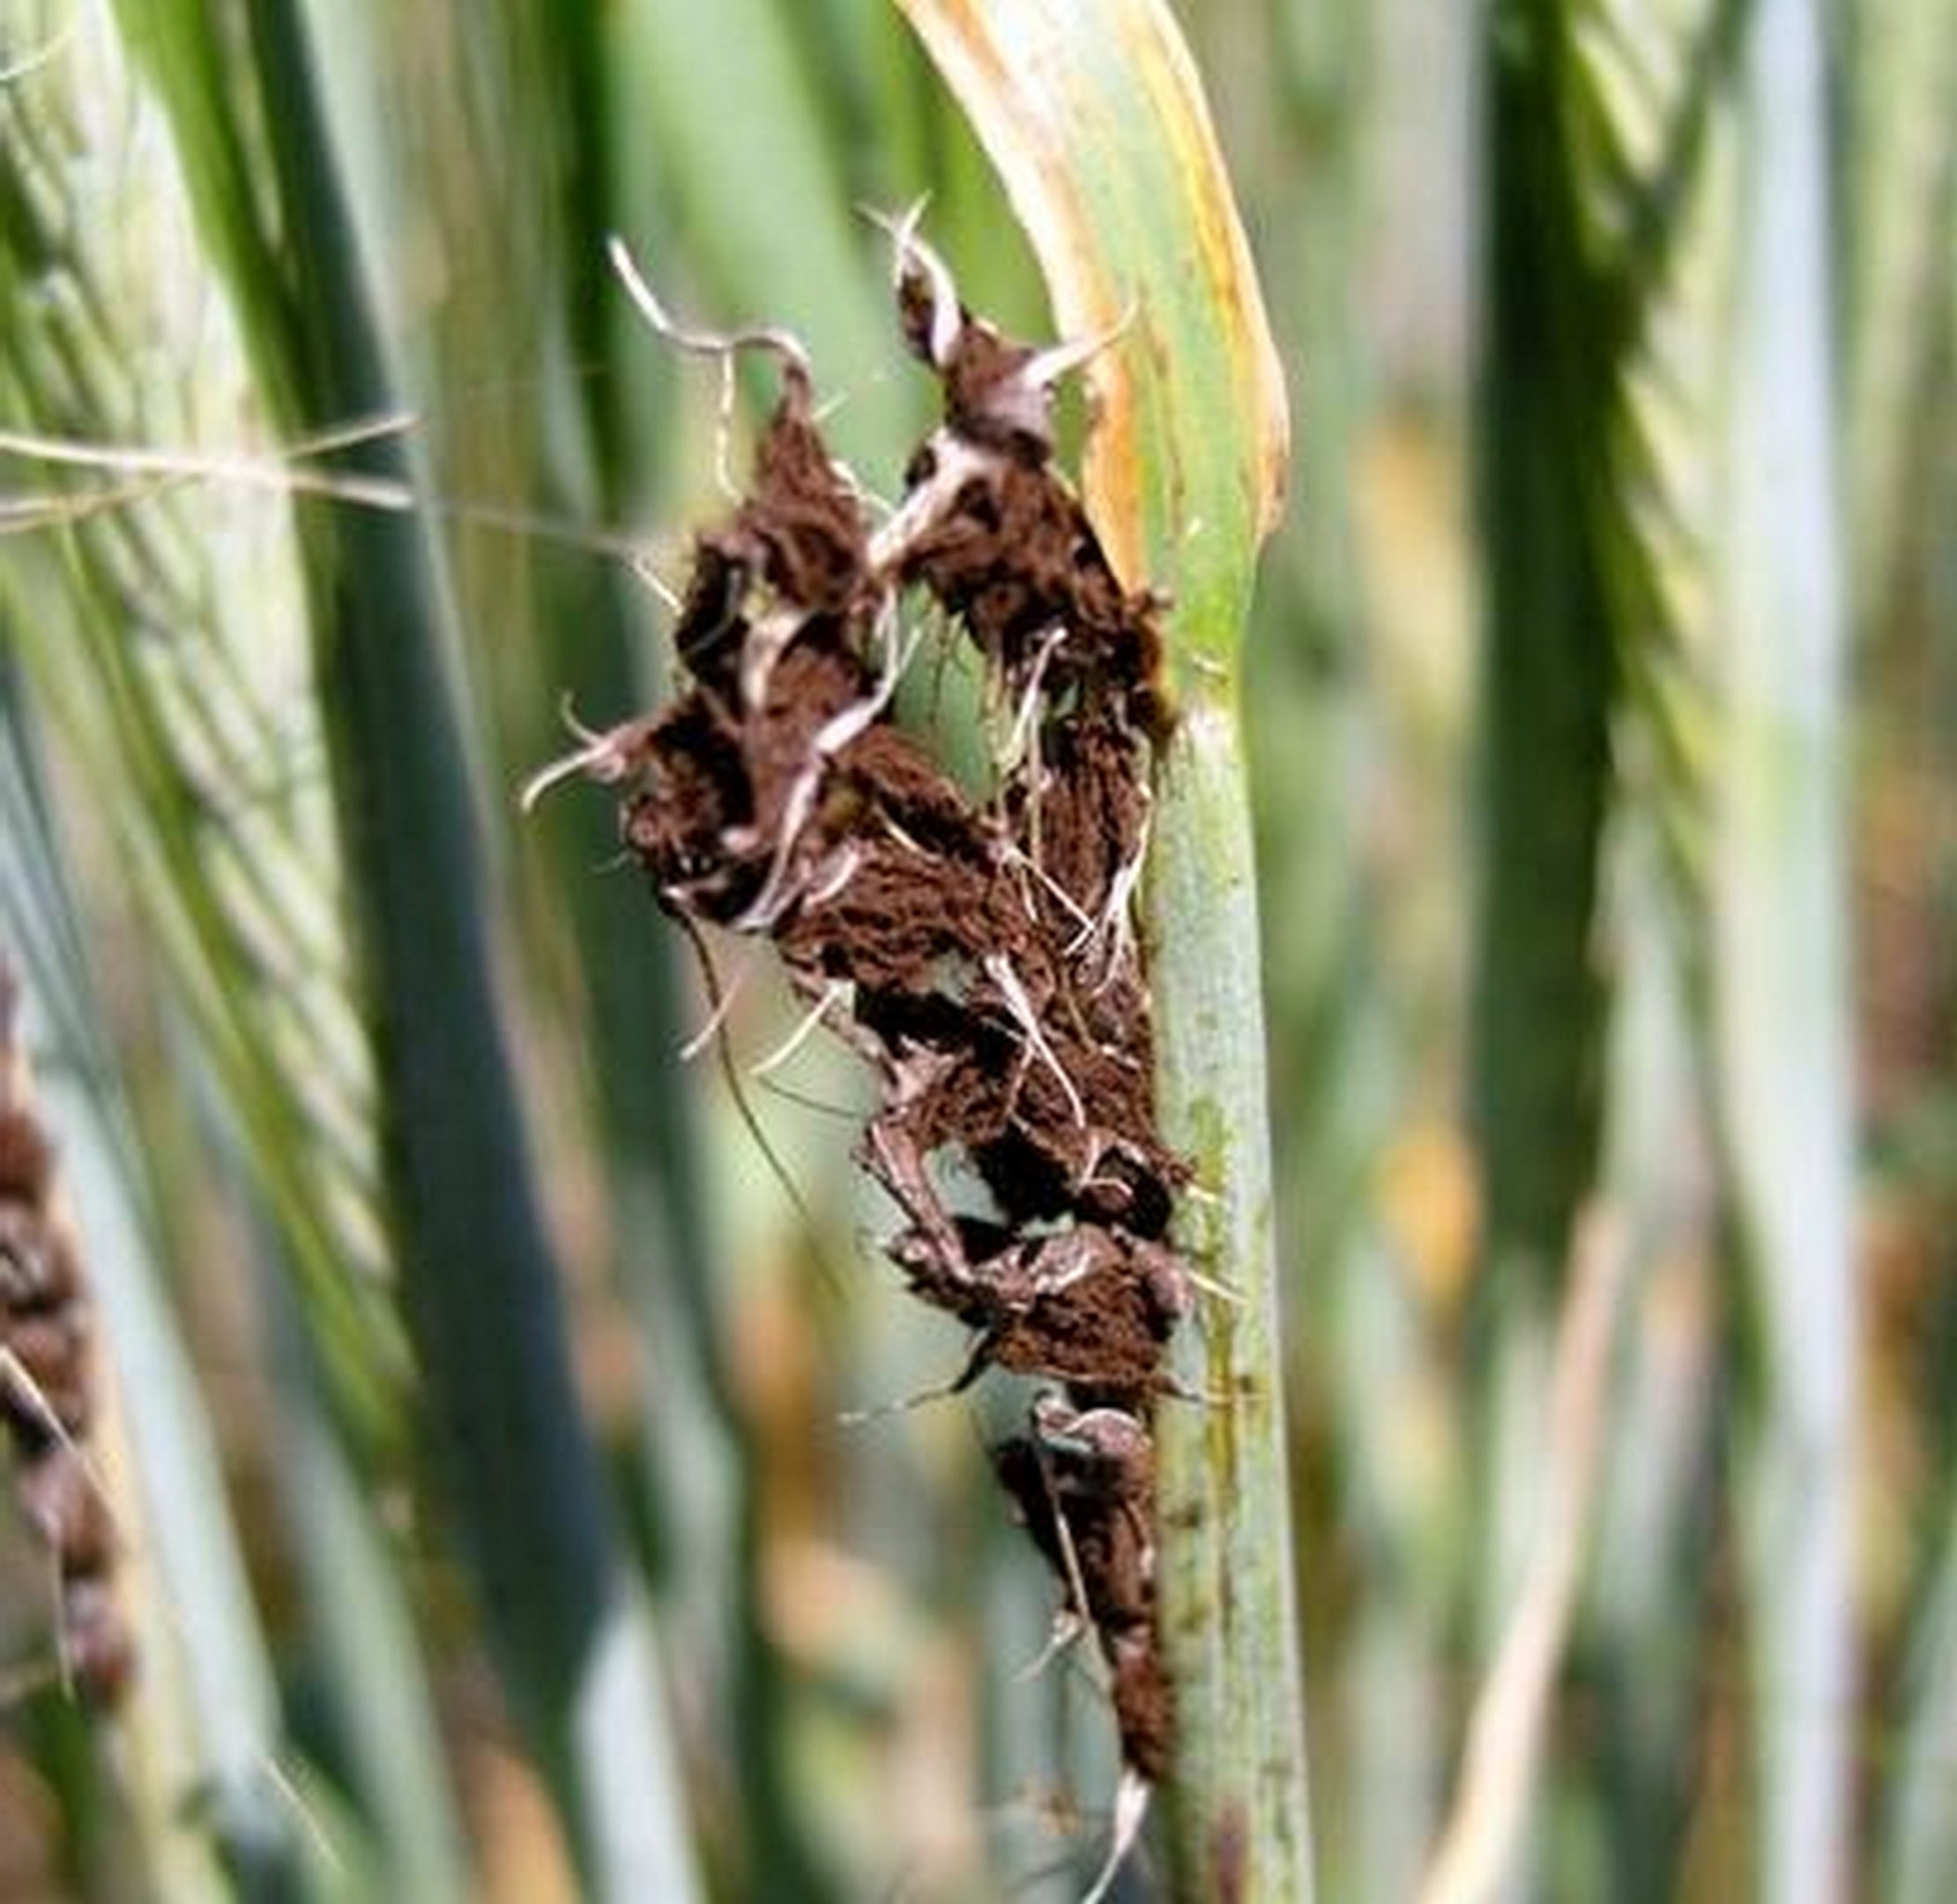Wheat Loose Smut: (650, 383, 1274, 1654)
